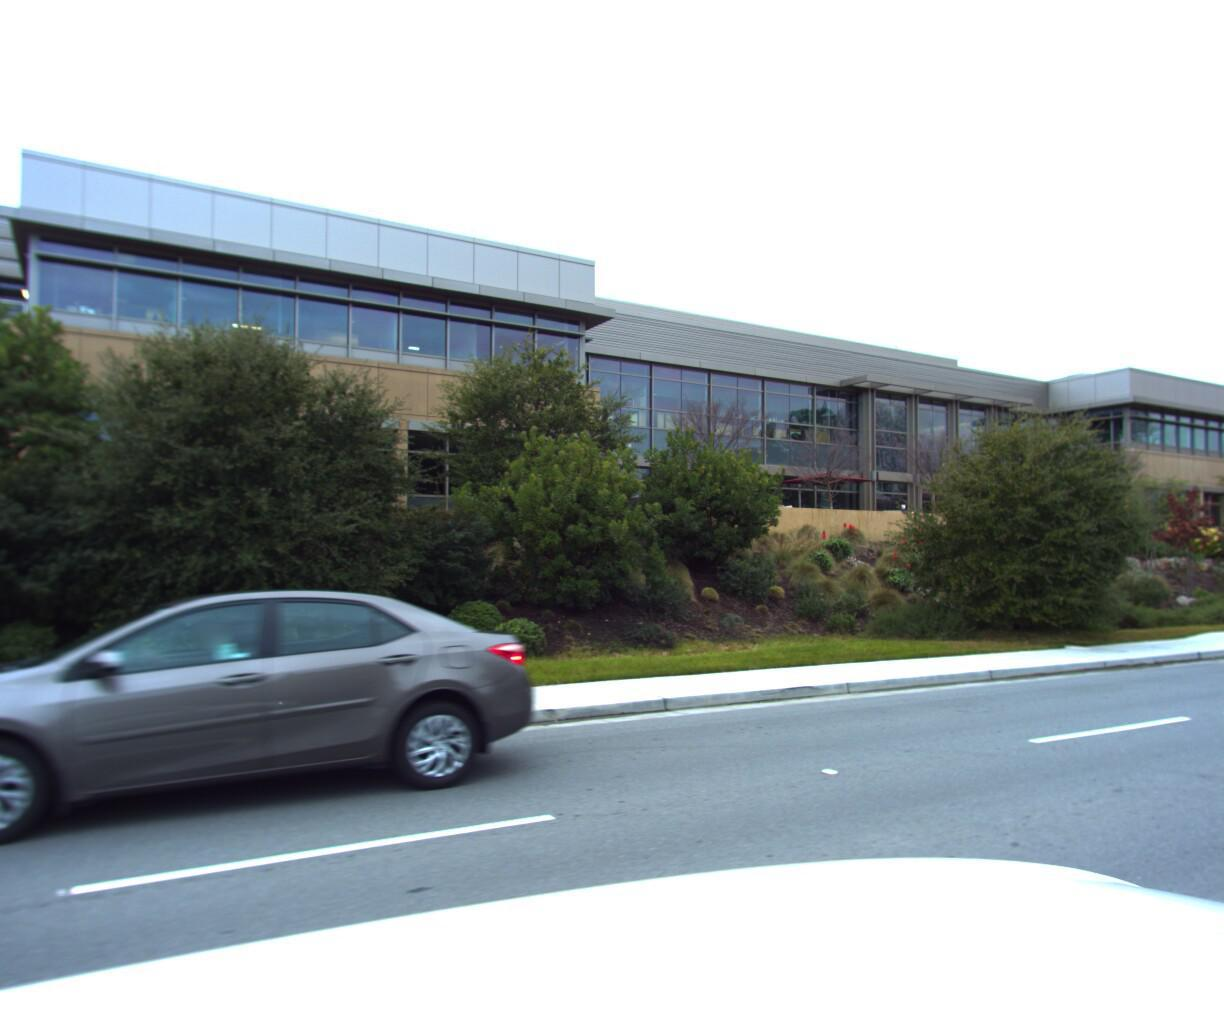car: (0, 581, 563, 895)
